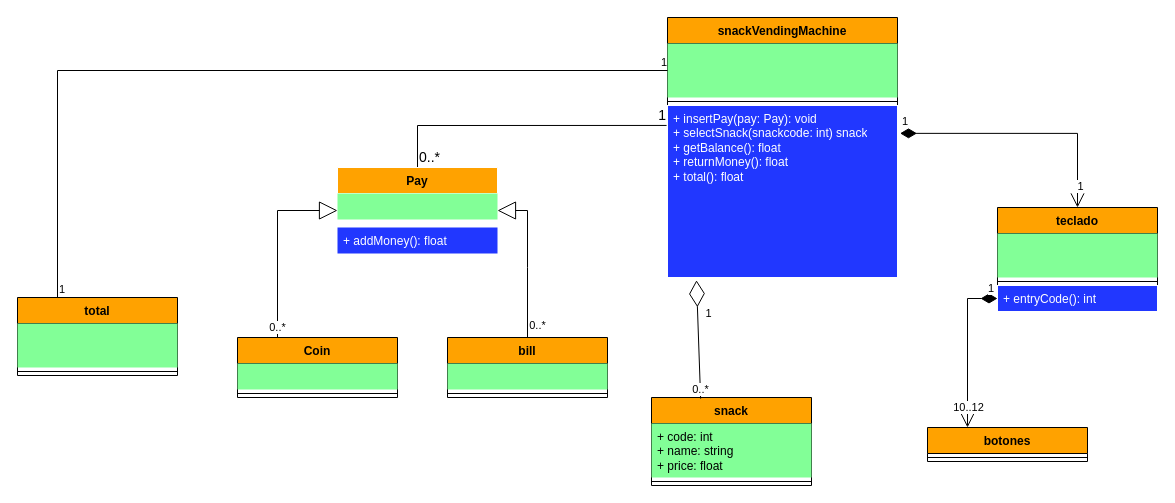
This 1175x503 diagram has some shape labels left out. The centre of each missing label's shape, as x and y in pixels:
+ balance: float: pixel 782 70
+ denominationOfCoin: int: pixel 317 376
+ denomitacionOfBill: int: pixel 527 376
+ num: int: pixel 1077 255
+ purchaseTotal: flaot + priceTotal: float: pixel 97 345
+ value: float: pixel 417 206
